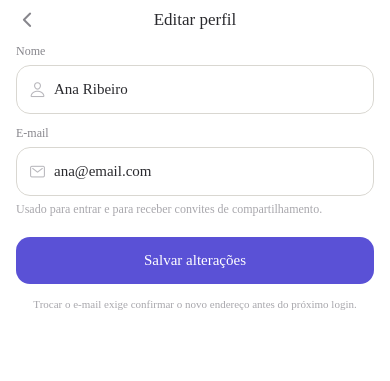
Editar perfil › mostra o erro da API sem fechar a tela
Replace the text in the field showing "Ana Ribeiro" below "Nome" with "Ana Paula" at (208, 90), box x1=54 y1=66 x2=361 y2=113
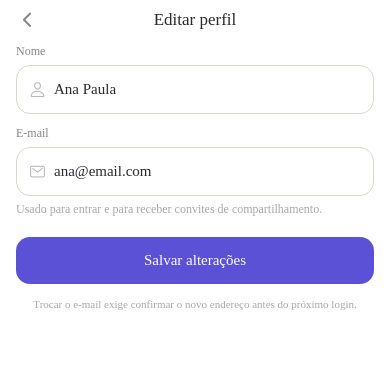
Click the button "Salvar alterações".
click(195, 260)  # box x1=16 y1=237 x2=374 y2=284
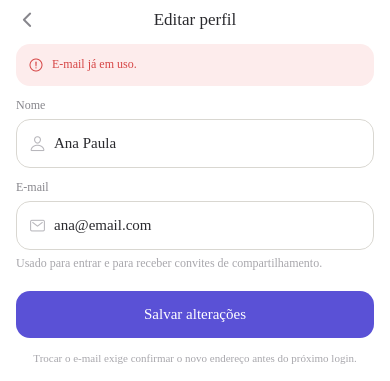
Check: the text "E-mail já em uso." is shown, box x1=52 y1=57 x2=137 y2=71
